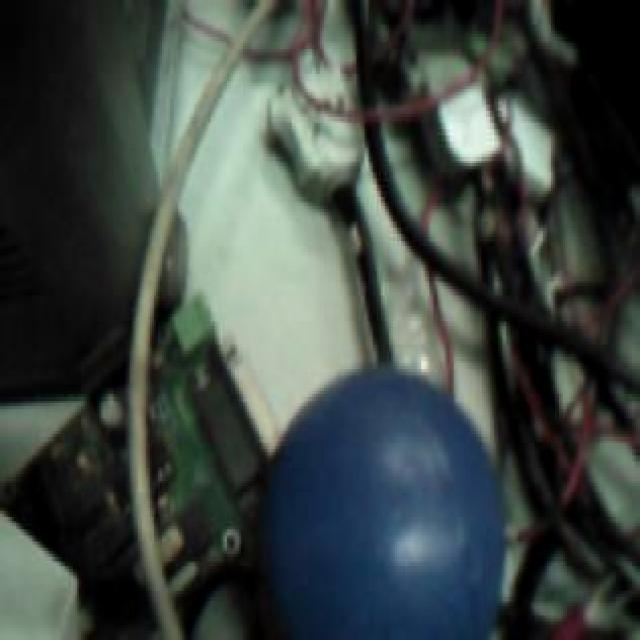BallPurple: (269, 364, 505, 640)
